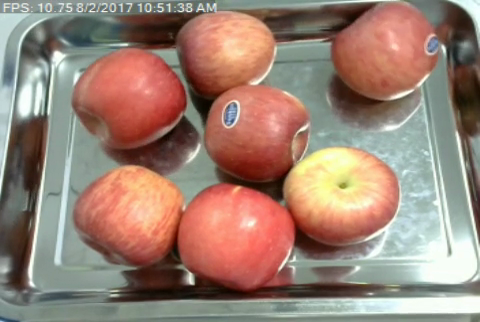Apple: (177, 181, 297, 290), (71, 45, 185, 146), (283, 147, 400, 243), (331, 0, 439, 102), (74, 167, 181, 267), (204, 84, 310, 180), (177, 9, 277, 96)
